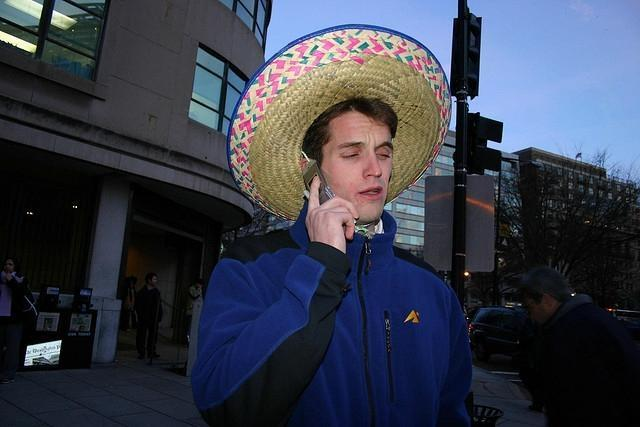car: (469, 307, 524, 360), (626, 318, 640, 332)
